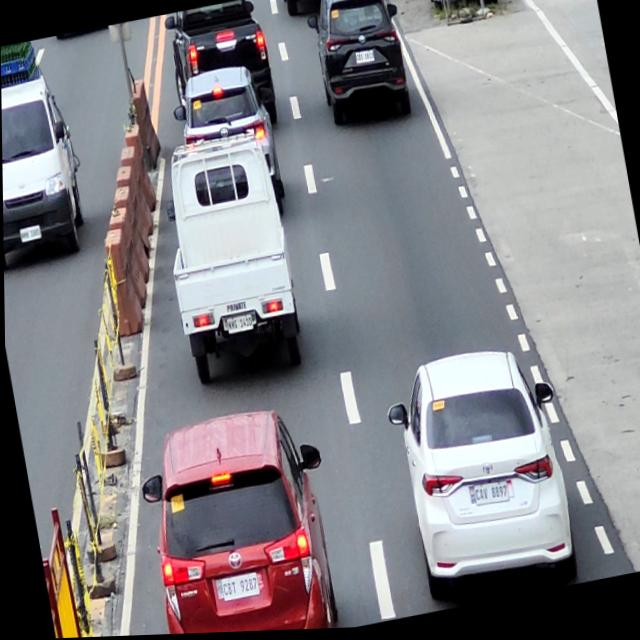Car: (380, 340, 584, 618), (130, 403, 348, 636), (151, 129, 308, 391), (1, 74, 92, 273), (169, 63, 284, 213), (164, 0, 281, 144), (303, 0, 415, 136)
License-Plate: (219, 574, 259, 603), (472, 483, 508, 510), (225, 314, 253, 337), (18, 225, 42, 244), (354, 52, 376, 69)
